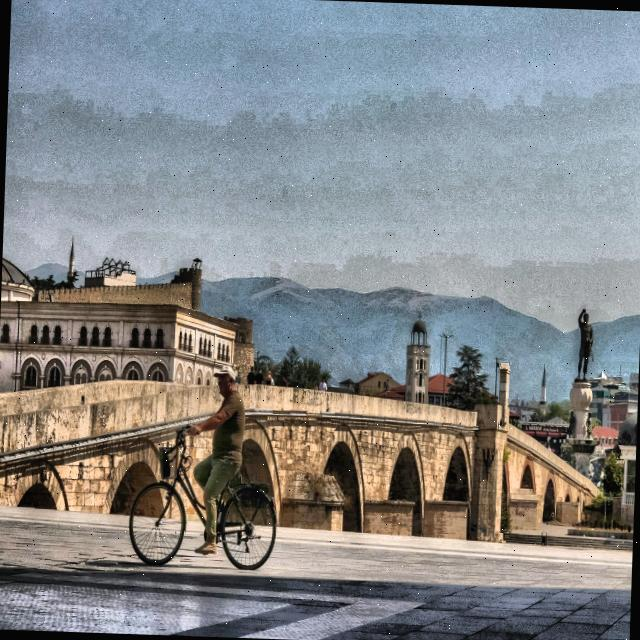stone bridge: (0, 374, 605, 541)
